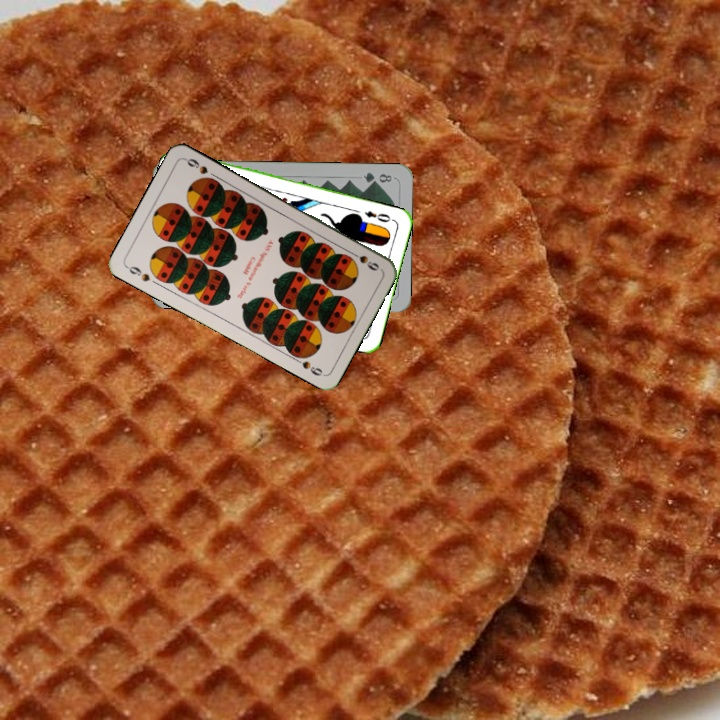EO: (360, 207, 393, 225)
G8: (359, 168, 395, 186)
S9: (345, 247, 382, 273), (122, 262, 153, 284)
